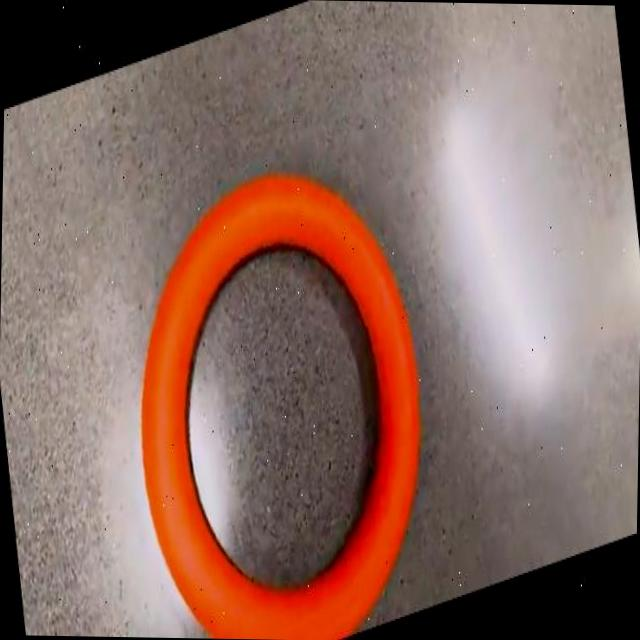note: (141, 174, 418, 640)
